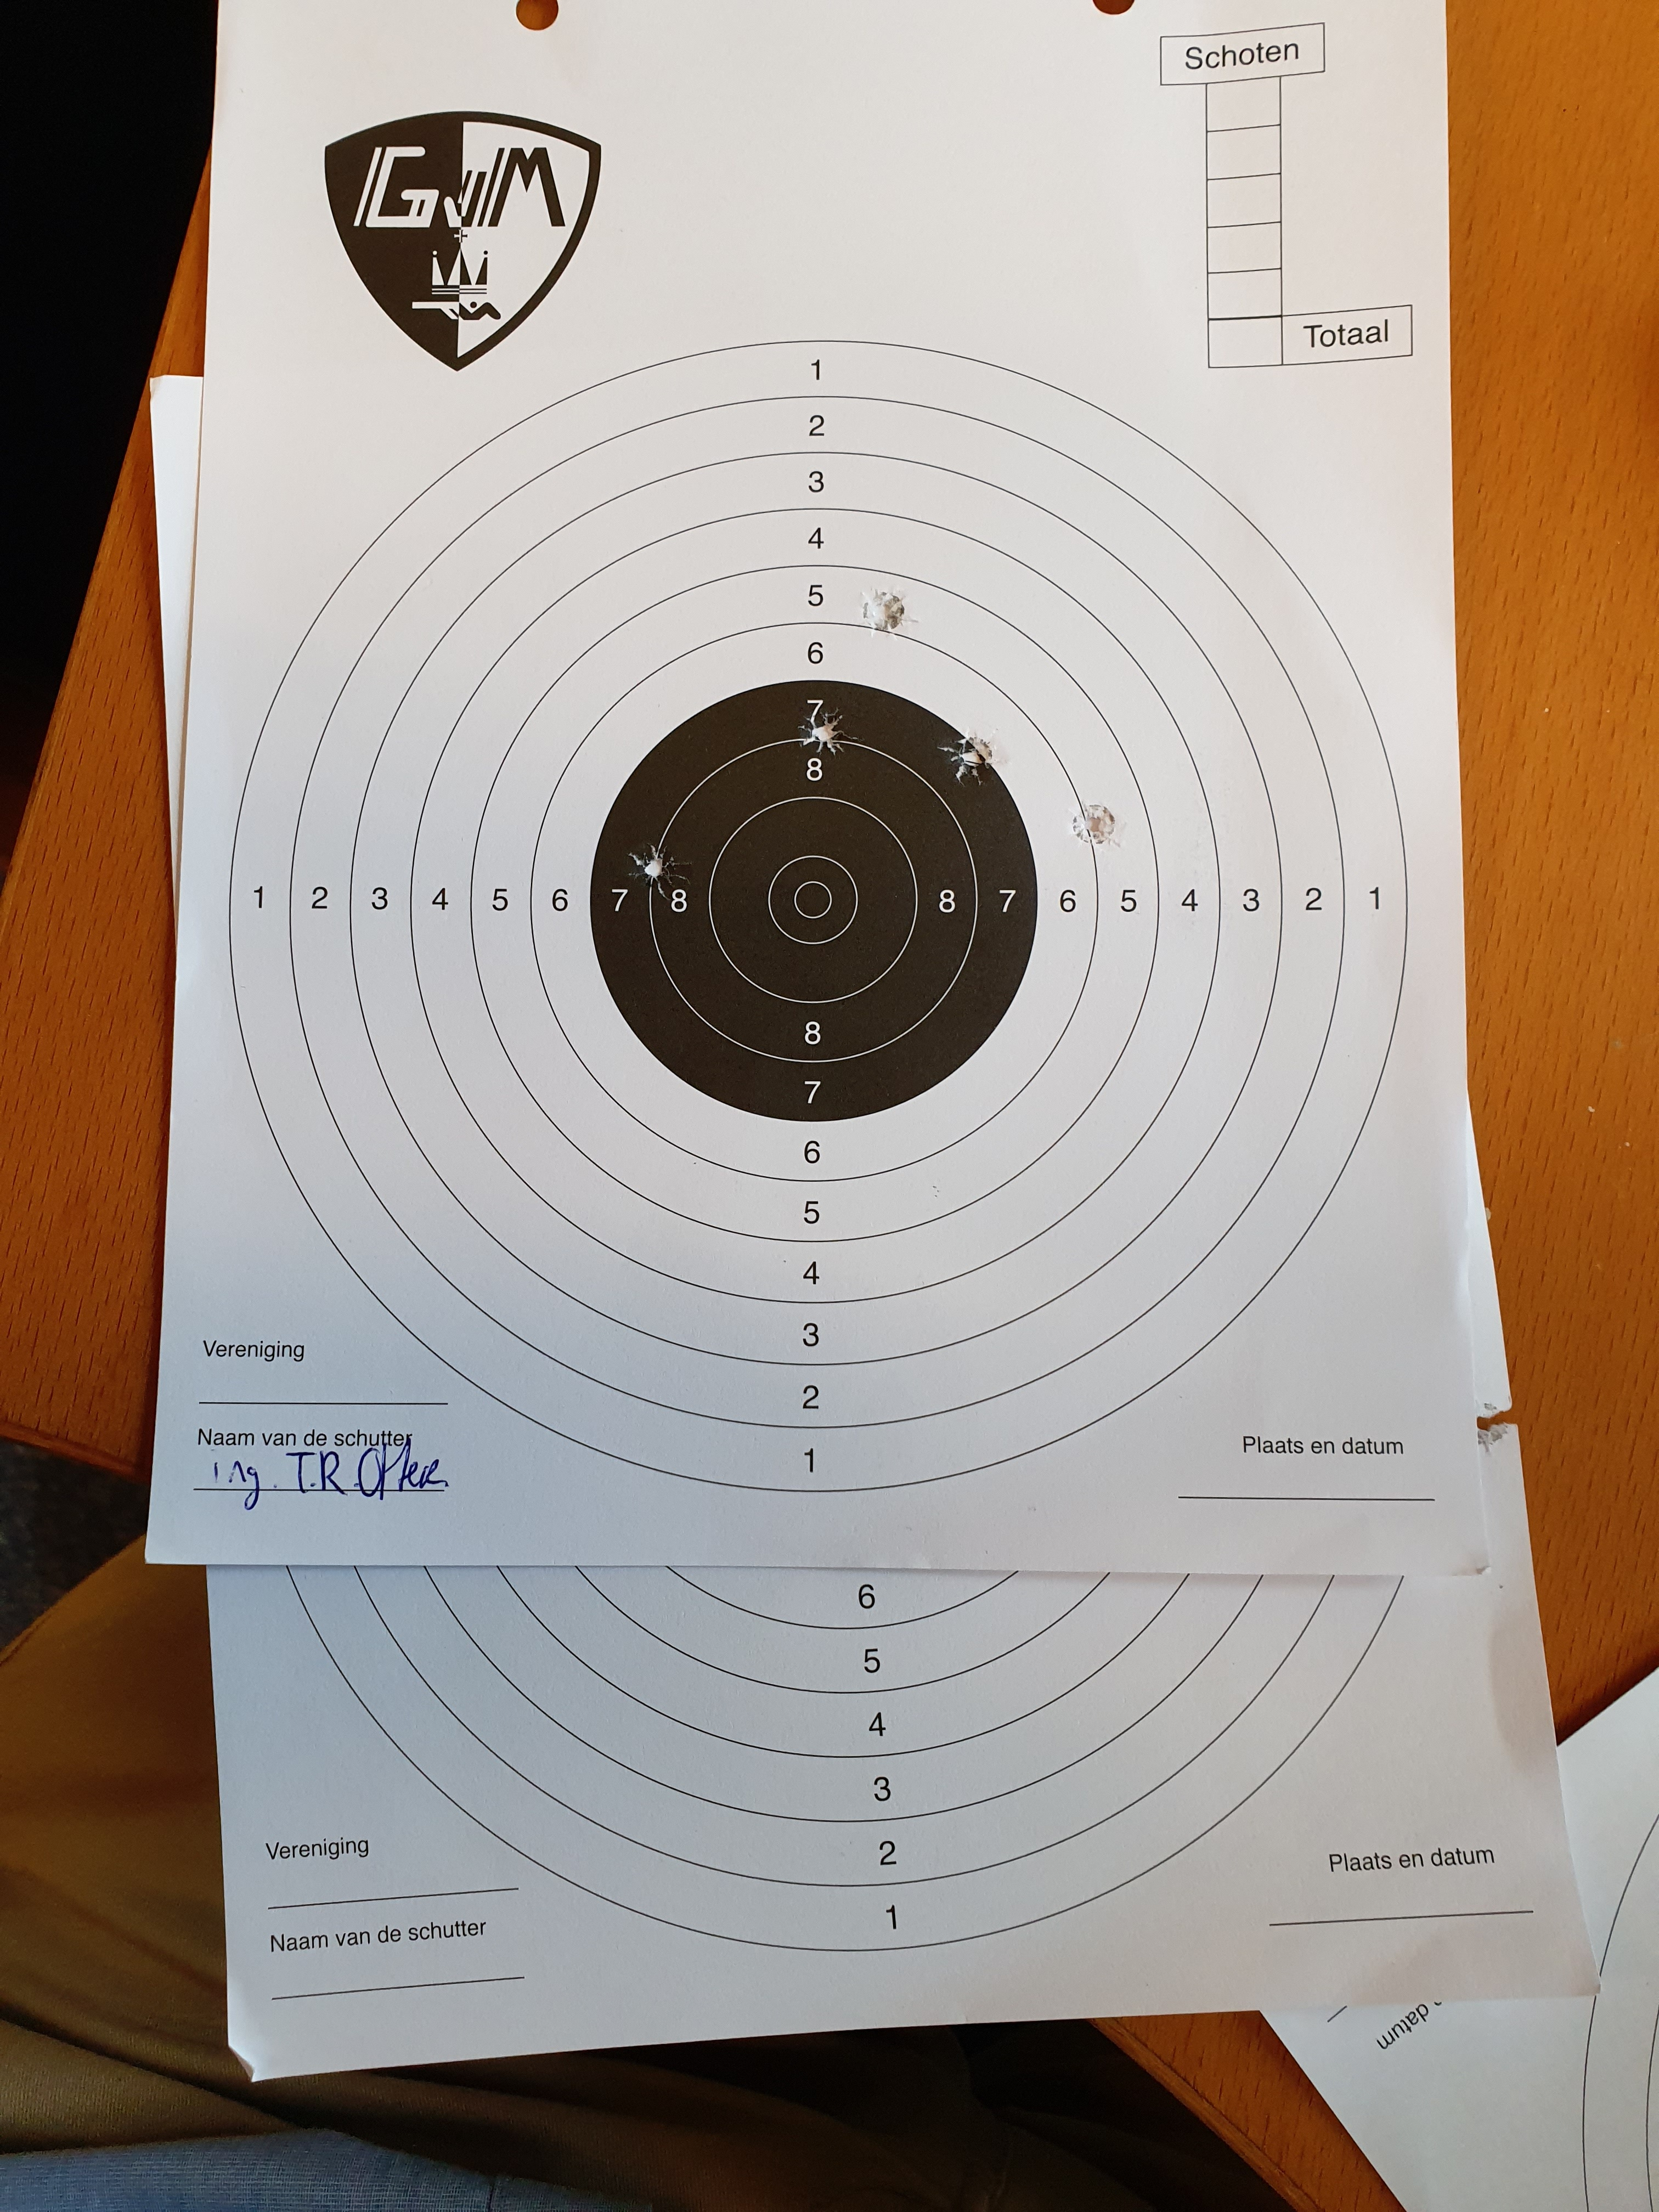center: (589, 679, 1039, 1122)
out: (228, 340, 1408, 1493)
shot: (934, 725, 1004, 787), (622, 841, 694, 902), (857, 583, 922, 639), (796, 707, 866, 758), (1066, 798, 1129, 850)
target: (767, 855, 857, 944)
